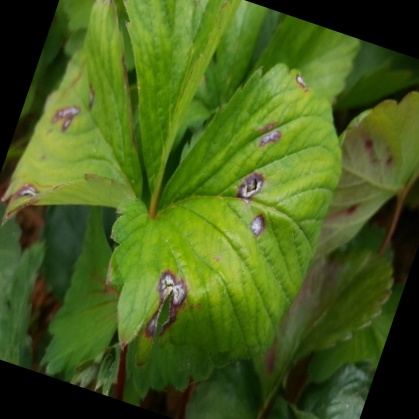Leaf_Spot: (121, 47, 324, 382), (9, 37, 143, 292), (307, 25, 413, 230)
